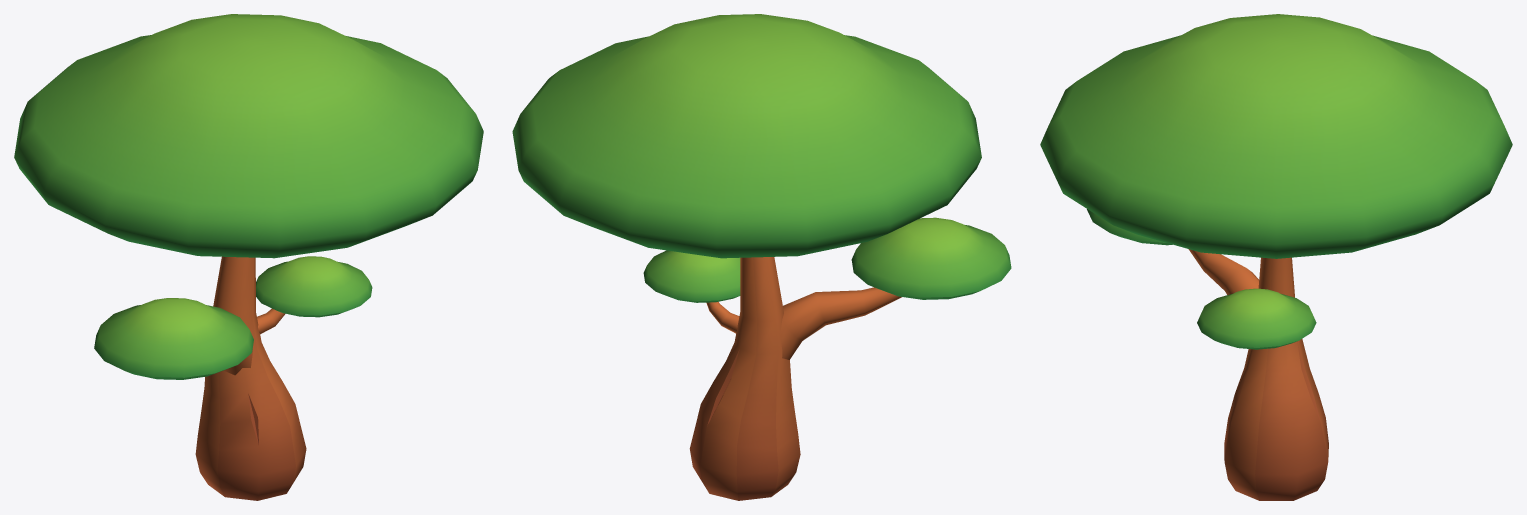
Rendered from Tree_3_B_Color1.gltf.
The picture shows the model from 3 angles, left to right: view 1: azimuth 30°, elevation 25°; view 2: azimuth 150°, elevation 25°; view 3: azimuth 270°, elevation 25°; orthographic projection.
Visible parts, largest first — view 1: Tree_3_B_Color1; view 2: Tree_3_B_Color1; view 3: Tree_3_B_Color1.
Part boxes in pixels (x1=…): Tree_3_B_Color1: x1=14, y1=14, x2=483, y2=500; Tree_3_B_Color1: x1=512, y1=14, x2=1011, y2=500; Tree_3_B_Color1: x1=1040, y1=14, x2=1512, y2=500.
Size of the model in its own units: 4.13 by 4.35 by 4.13.
1 material, 1 textured.
